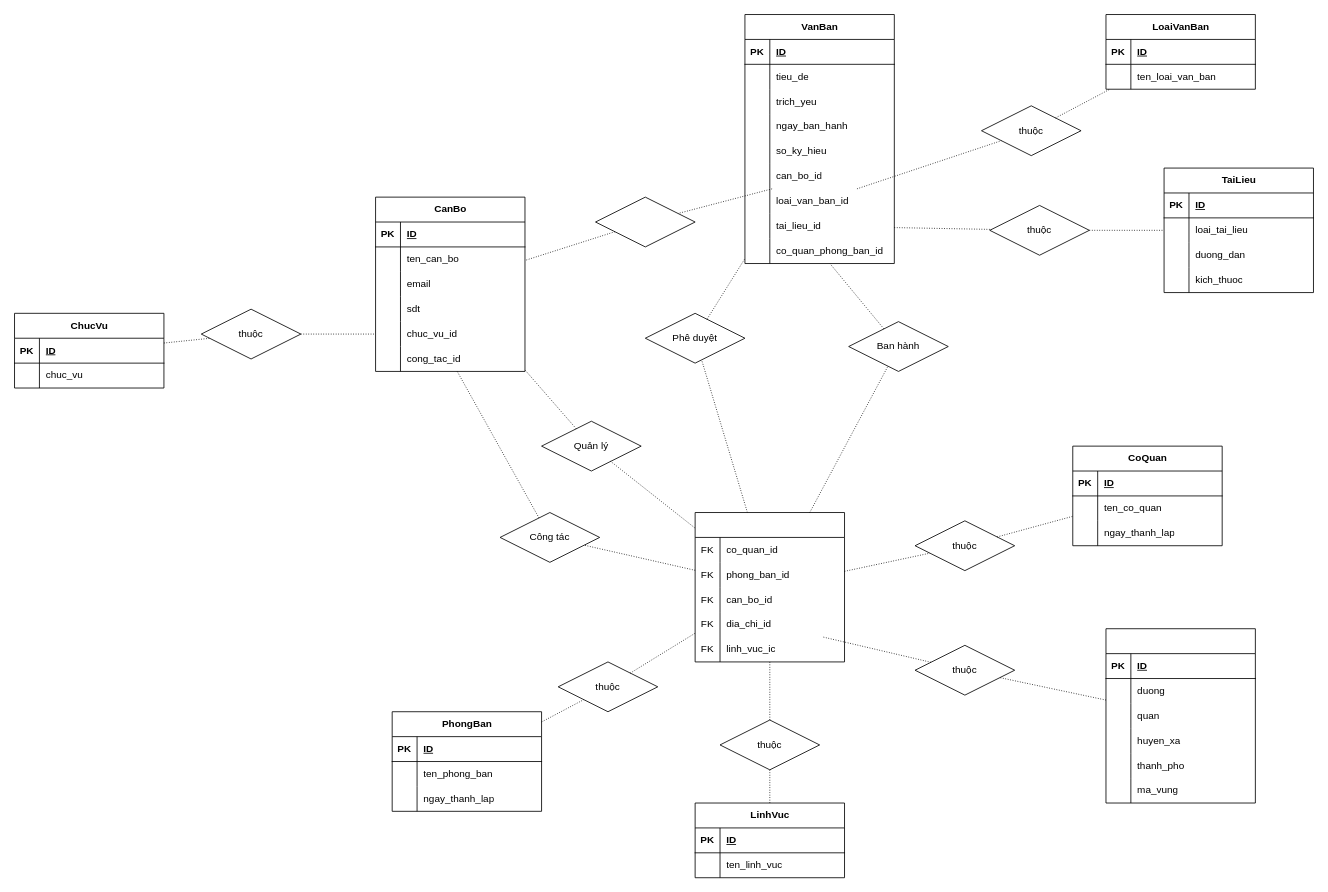
Image size: 1328x892. Some labels were removed from this diagram. Each missing label, with the box of its shape:
CoQuan_PhongBan_LinhVuc: (694, 512, 845, 662)
DiaChi: (1105, 628, 1255, 803)
Người ký: (595, 196, 695, 247)
